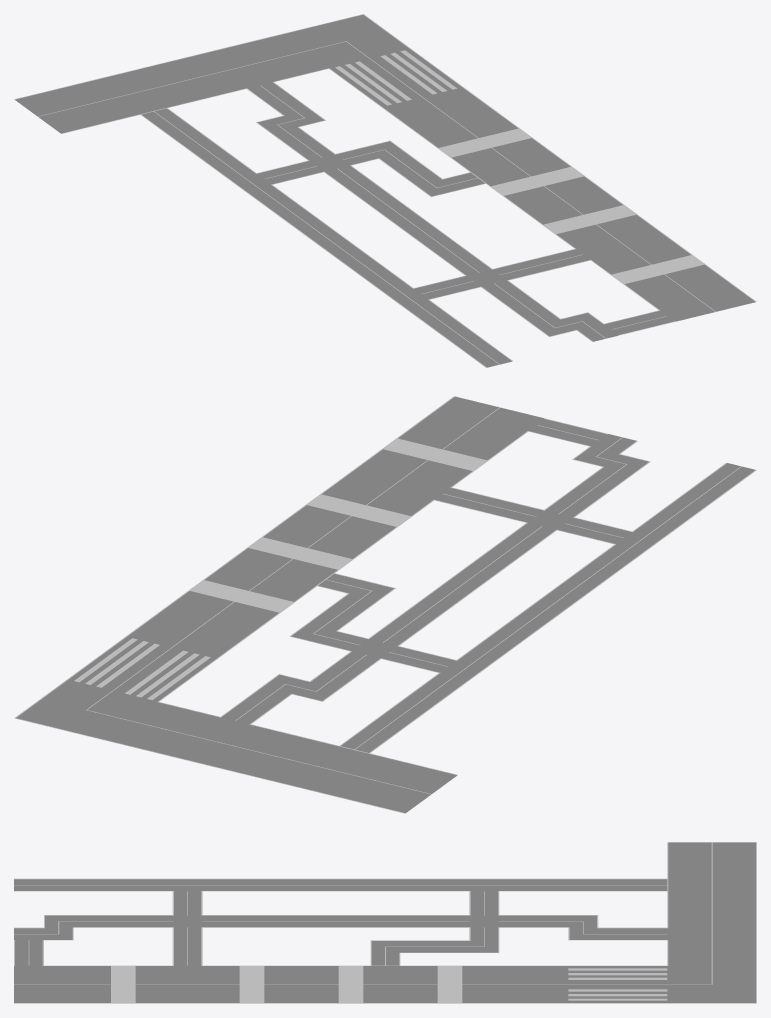
File: APRunwayCombinedA.fbx
3 views of the same model, one above another, from view 1: azimuth 30°, elevation 25°; view 2: azimuth 150°, elevation 25°; view 3: azimuth 270°, elevation 25° (orthographic). The views are drawn at different scales.
Visible parts, largest first — view 1: APRunwayCombinedA; view 2: APRunwayCombinedA; view 3: APRunwayCombinedA.
Boxes of the visible parts, x1=… form: APRunwayCombinedA: x1=14, y1=14, x2=756, y2=367; APRunwayCombinedA: x1=14, y1=396, x2=756, y2=813; APRunwayCombinedA: x1=14, y1=842, x2=756, y2=1003.
Size of what is drawn, in the model's own units: 16578 by 0 by 32300.
